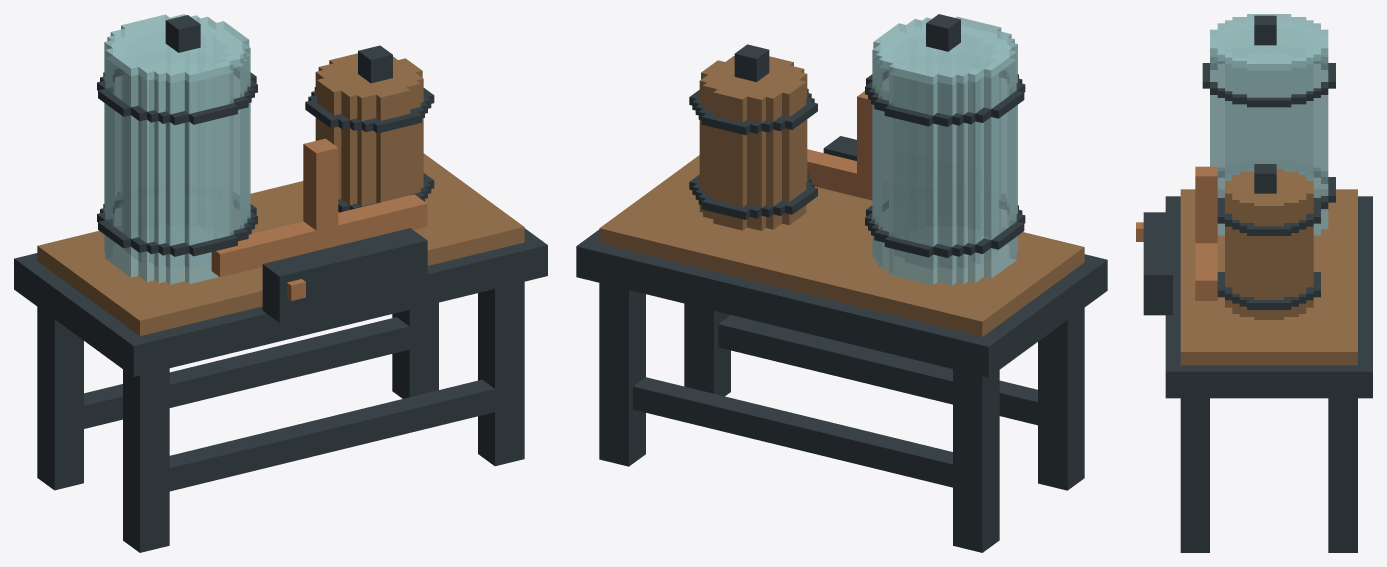
The model's file is fluid_bench.glb.
The picture shows the model from 3 angles, left to right: view 1: azimuth 30°, elevation 25°; view 2: azimuth 150°, elevation 25°; view 3: azimuth 270°, elevation 25°; orthographic projection. The views are drawn at different scales.
Visible parts, largest first — view 1: fluid_bench/work_surface, fluid_bench/frame, fluid_bench/work_surface_lid_0, fluid_bench/work_surface_lid_1; view 2: fluid_bench/work_surface, fluid_bench/frame, fluid_bench/work_surface_lid_0, fluid_bench/work_surface_lid_1; view 3: fluid_bench/work_surface, fluid_bench/frame, fluid_bench/work_surface_lid_0, fluid_bench/work_surface_lid_1.
Part boxes in pixels (x1,y1,x2,y2): fluid_bench/work_surface: (37,23,524,335); fluid_bench/frame: (14,228,547,552); fluid_bench/work_surface_lid_0: (104,14,250,83); fluid_bench/work_surface_lid_1: (315,45,423,105); fluid_bench/work_surface: (599,26,1084,336); fluid_bench/frame: (576,230,1107,552); fluid_bench/work_surface_lid_0: (872,14,1017,85); fluid_bench/work_surface_lid_1: (699,44,807,107); fluid_bench/work_surface: (1136,21,1357,365); fluid_bench/frame: (1165,196,1372,552); fluid_bench/work_surface_lid_0: (1210,14,1328,70); fluid_bench/work_surface_lid_1: (1225,164,1313,212).
Bounding box in the file's own units: 1.75 × 1.91 × 1.
